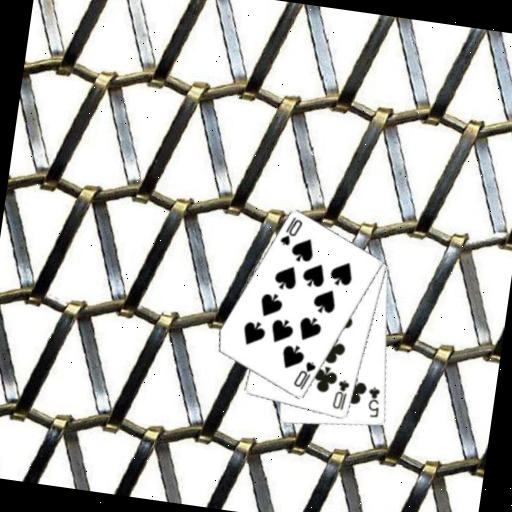10C: (329, 376, 352, 413)
10S: (290, 357, 318, 394), (277, 212, 305, 249)
5C: (363, 384, 384, 420)
